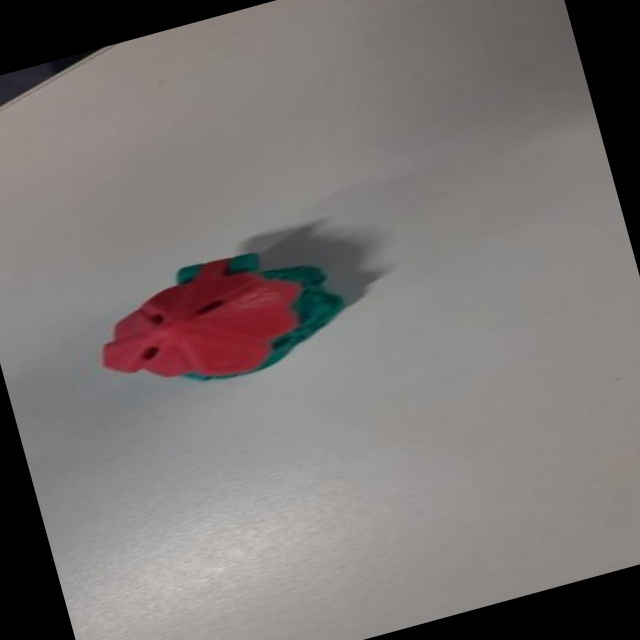House: (82, 226, 373, 419)
